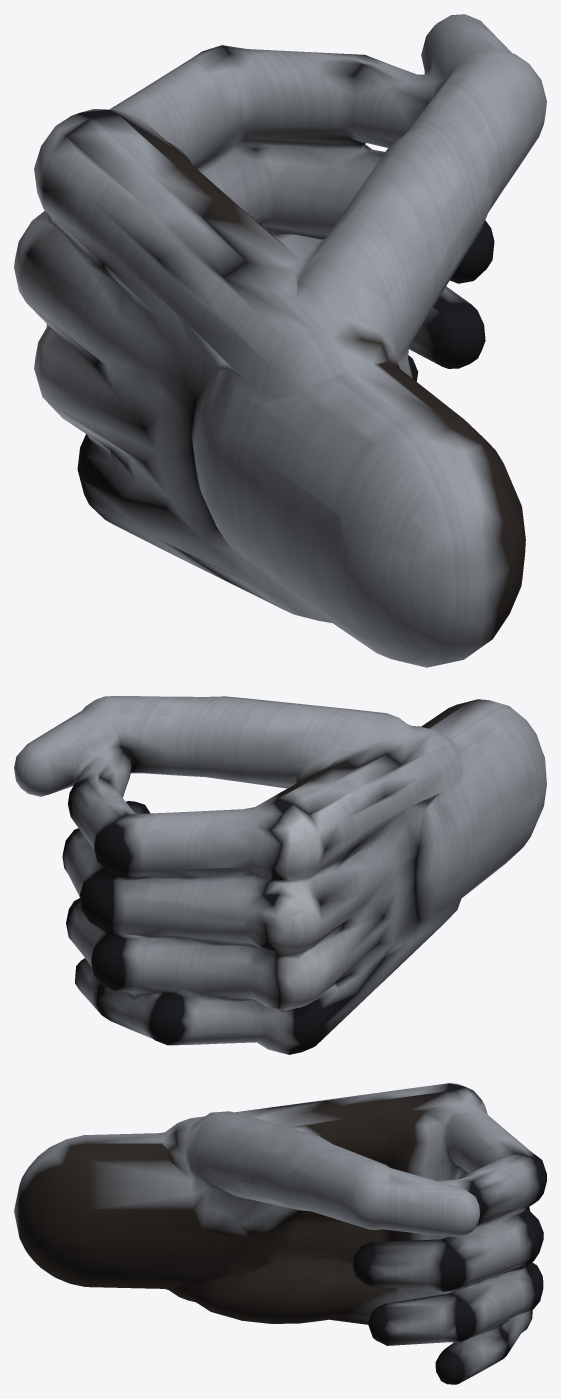
The model's file is fp_hand.glb.
The picture shows the model from 3 angles, top to bottom: view 1: azimuth 30°, elevation 25°; view 2: azimuth 150°, elevation 25°; view 3: azimuth 270°, elevation 25°; orthographic projection. The views are drawn at different scales.
Parts seen in each view (by area): view 1: fp_hand; view 2: fp_hand; view 3: fp_hand.
Boxes of the visible parts, x1,y1,x2,y2 form: fp_hand: [14, 14, 546, 667]; fp_hand: [14, 696, 546, 1054]; fp_hand: [14, 1083, 546, 1384].
Size of the model in its own units: 0.1001 by 0.086 by 0.1649.
Materials: 1 (1 with a texture image).
